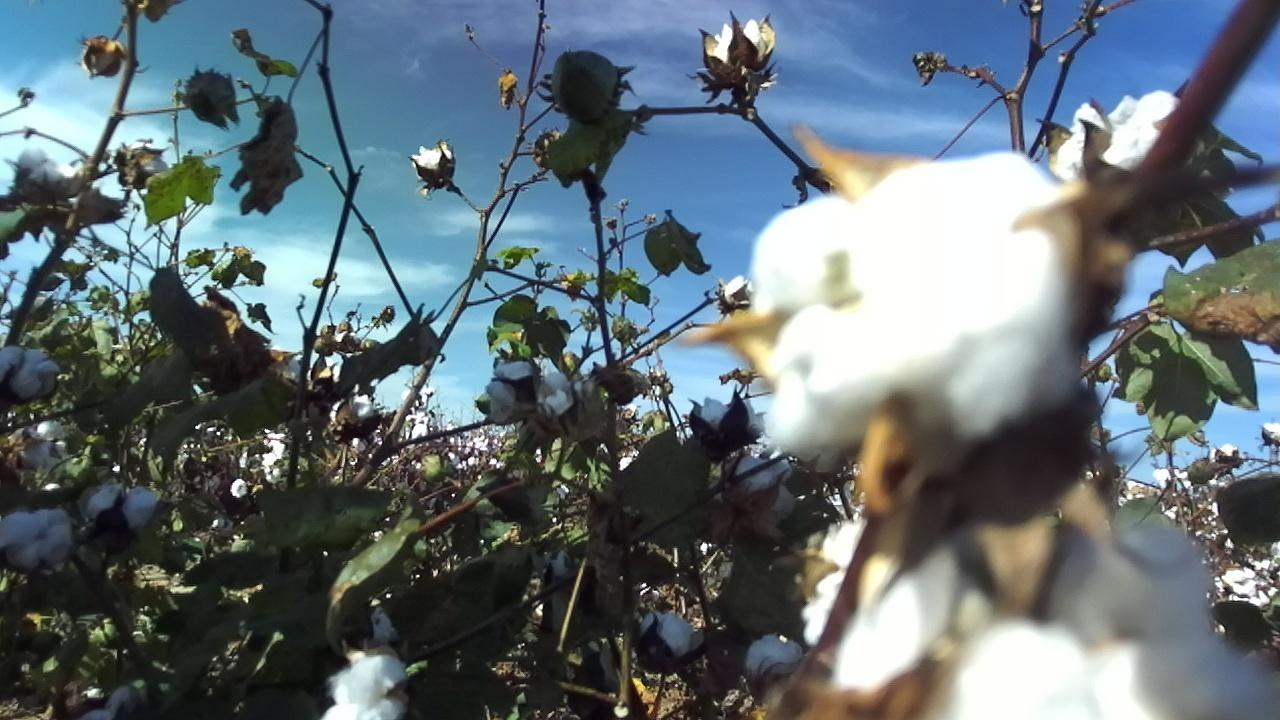cotton_ready: (754, 150, 1070, 461), (824, 510, 1280, 720), (1050, 84, 1179, 178), (320, 651, 408, 720), (0, 504, 69, 577), (636, 609, 703, 671), (729, 454, 792, 517), (742, 635, 809, 694), (83, 487, 163, 535), (0, 346, 62, 406), (707, 18, 771, 72), (479, 359, 532, 423), (20, 418, 74, 474), (689, 393, 754, 436), (14, 147, 66, 192), (409, 140, 455, 182), (542, 364, 580, 414)
